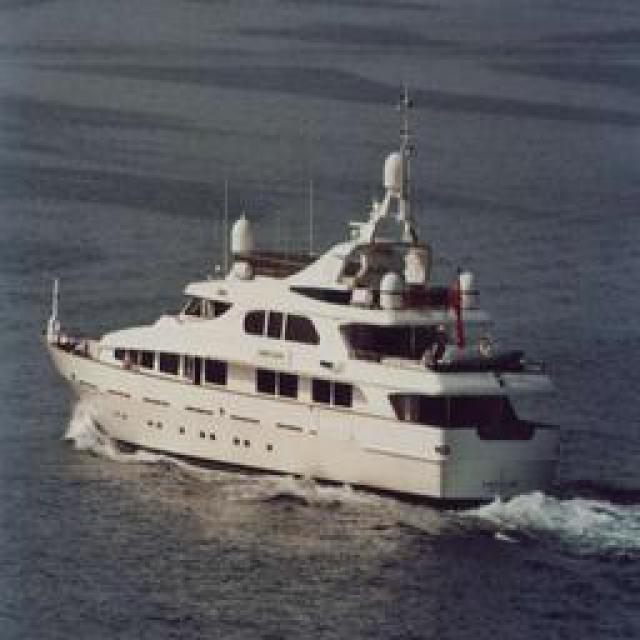Ship: (51, 127, 564, 507)
